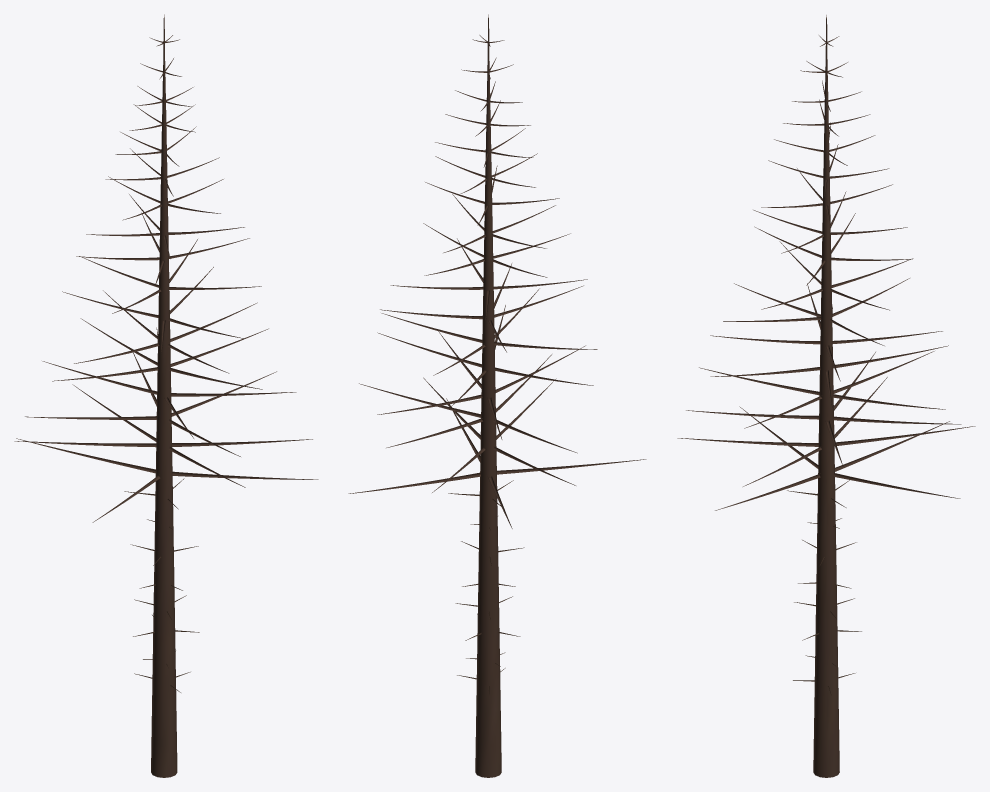
Rendered from SM_Tree_larch_1_bare.glb.
3 renders of one model, left to right at view 1: azimuth 30°, elevation 25°; view 2: azimuth 150°, elevation 25°; view 3: azimuth 270°, elevation 25°, orthographic.
Visible parts, largest first — view 1: SM_Tree_larch_1_bare; view 2: SM_Tree_larch_1_bare; view 3: SM_Tree_larch_1_bare.
Part boxes in pixels (x1,y1,x2,y2): SM_Tree_larch_1_bare: (14,14,318,777); SM_Tree_larch_1_bare: (348,14,646,777); SM_Tree_larch_1_bare: (677,15,975,777).
Bounding box in the file's own units: 6.11 × 18.35 × 6.58.
